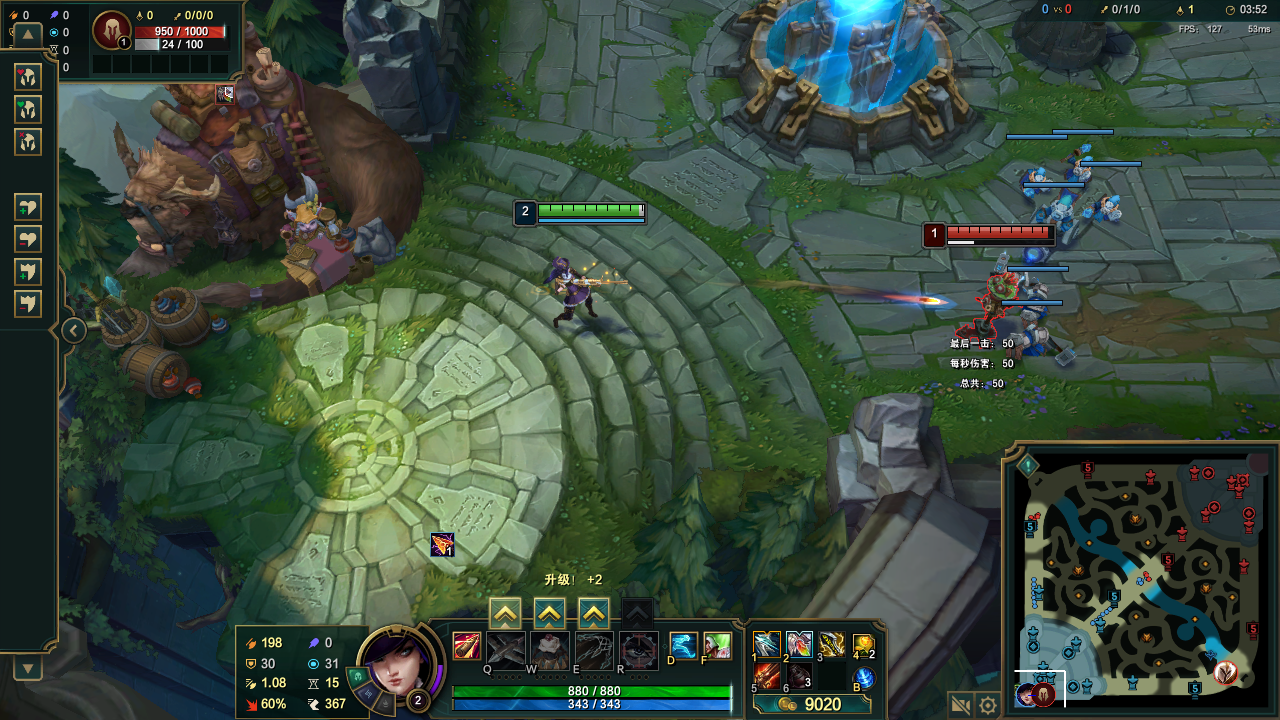DFYX: (948, 227, 1055, 238)
